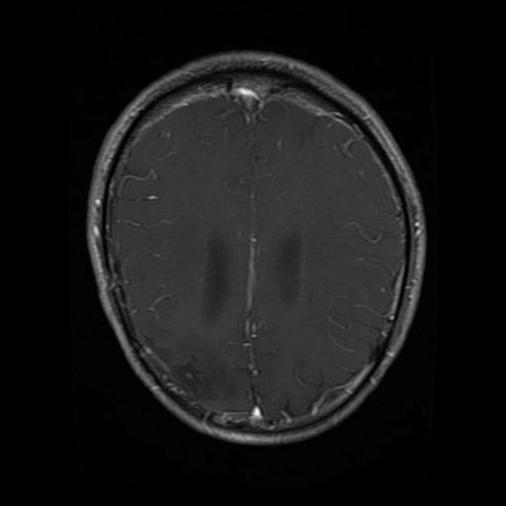Tumour-Glioma: (164, 352, 215, 402)
